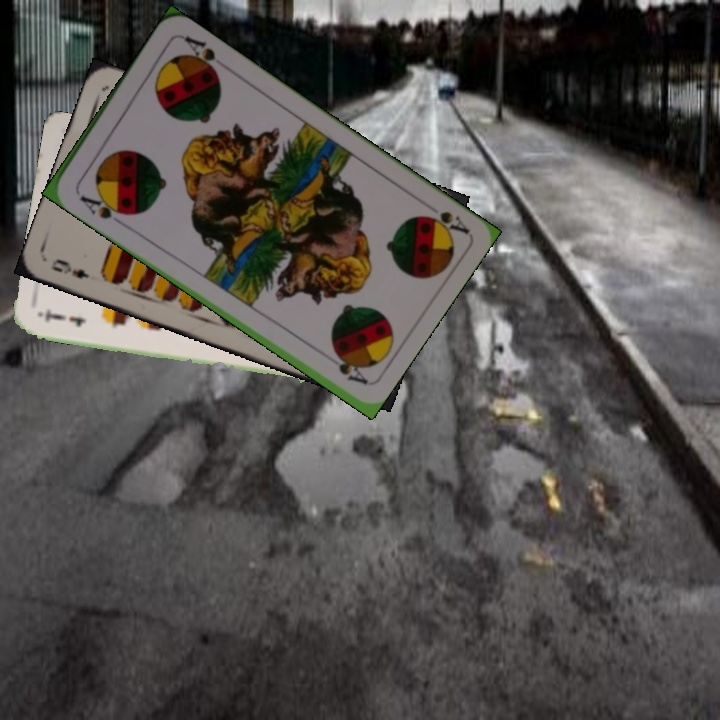E7: (37, 305, 89, 330)
E9: (48, 255, 92, 282)
SA: (75, 190, 129, 227), (417, 207, 470, 239)
